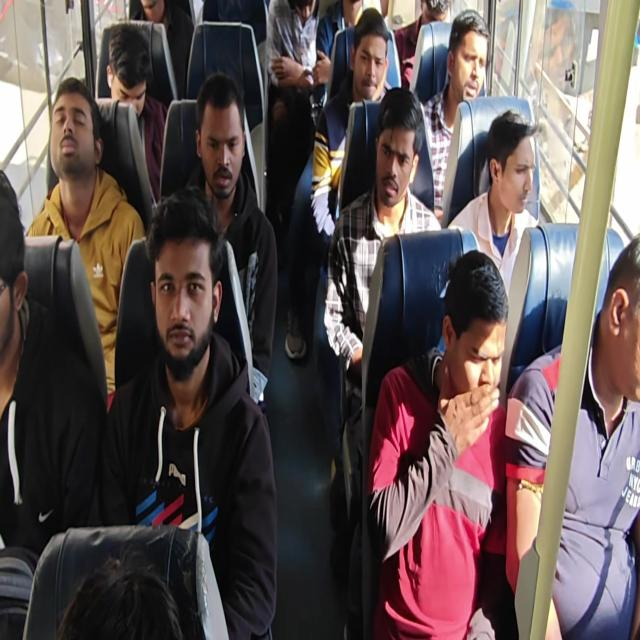person: (150, 233, 227, 372), (60, 560, 187, 640), (444, 259, 500, 405), (600, 230, 640, 406), (38, 78, 102, 179), (95, 24, 152, 125), (197, 106, 252, 203), (0, 168, 26, 366), (375, 115, 425, 217), (486, 112, 538, 209), (450, 18, 489, 109), (354, 25, 383, 92), (414, 0, 447, 42), (122, 0, 166, 16), (288, 0, 319, 22)
